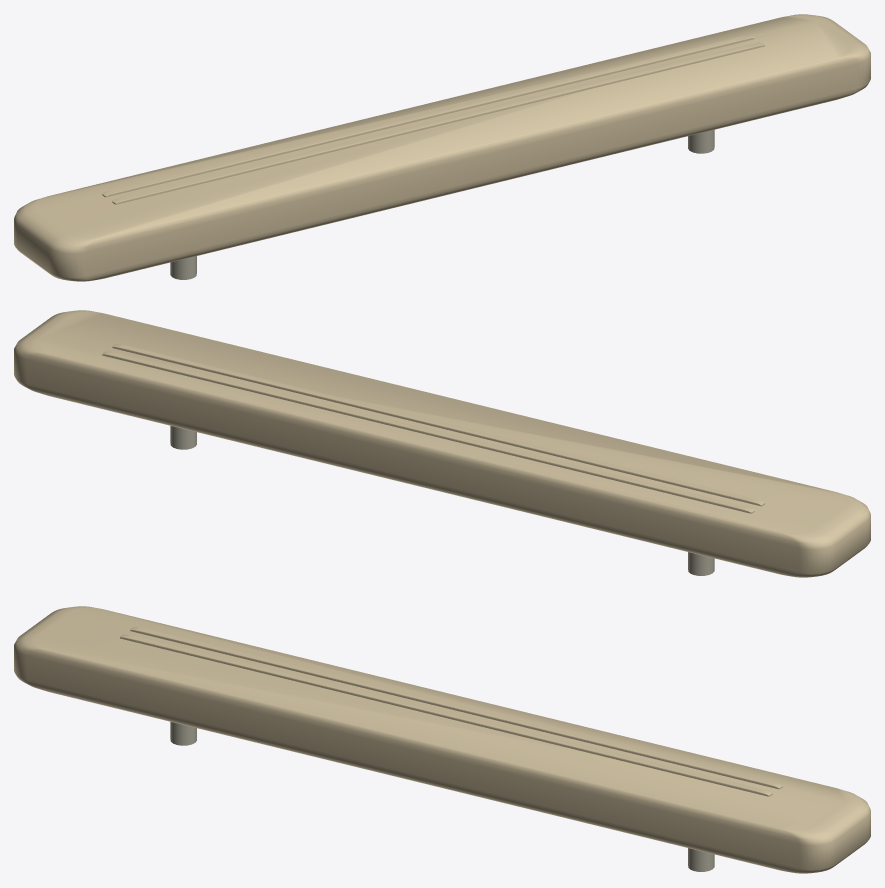
File: Continental.glb
3 renders of one model, top to bottom at view 1: azimuth 30°, elevation 25°; view 2: azimuth 150°, elevation 25°; view 3: azimuth 330°, elevation 25°, orthographic.
Parts seen in each view (by area): view 1: Space key, Grip rib (×2), Stabilizer (×2); view 2: Space key, Grip rib (×2), Stabilizer (×2); view 3: Space key, Grip rib (×2), Stabilizer (×2).
Boxes of the visible parts, x1,y1,x2,y2 form: Space key: (14,14,870,281); Grip rib (×2): (102,35,764,204); Stabilizer (×2): (170,130,714,279); Space key: (14,310,870,577); Grip rib (×2): (102,344,764,513); Stabilizer (×2): (170,426,714,575); Space key: (14,606,870,873); Grip rib (×2): (120,627,782,796); Stabilizer (×2): (170,722,714,871).
Size of the model in its own units: 2.85 by 0.288 by 0.3514.
